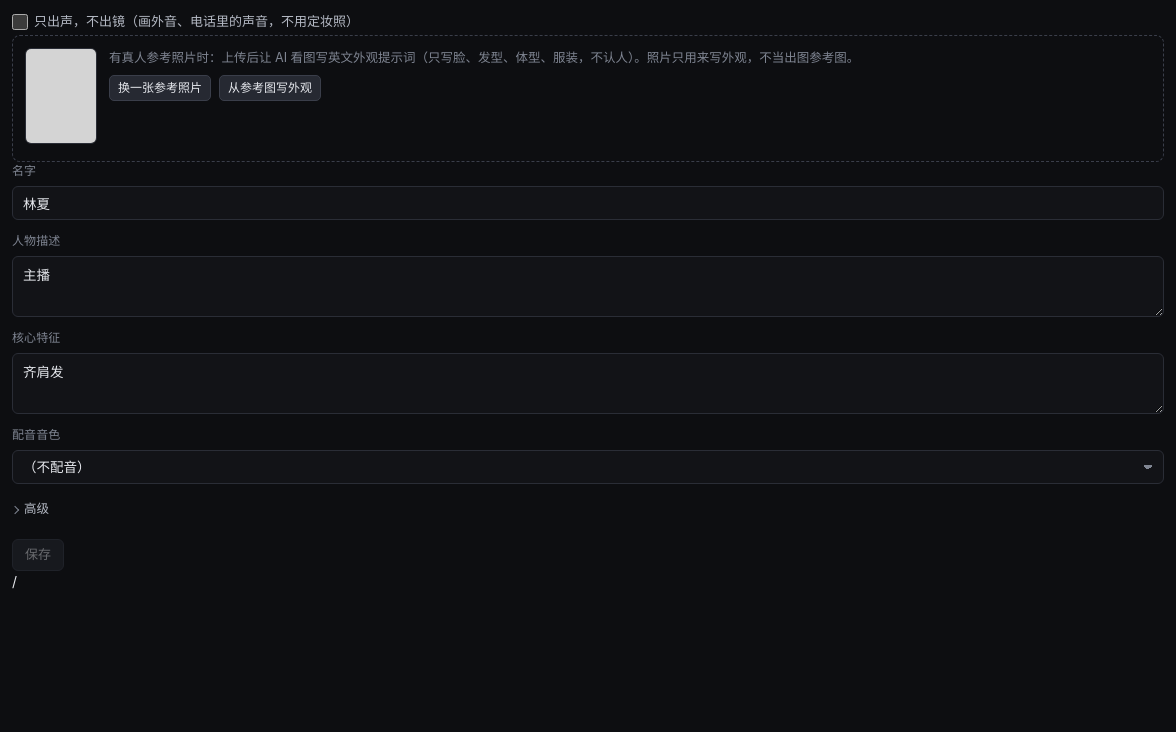
Test: 从参考图写外观 › 有照片：点「从参考图写外观」提交任务并跟踪
Click the button "从参考图写外观".
click(270, 88)  # box [219,75,321,101]
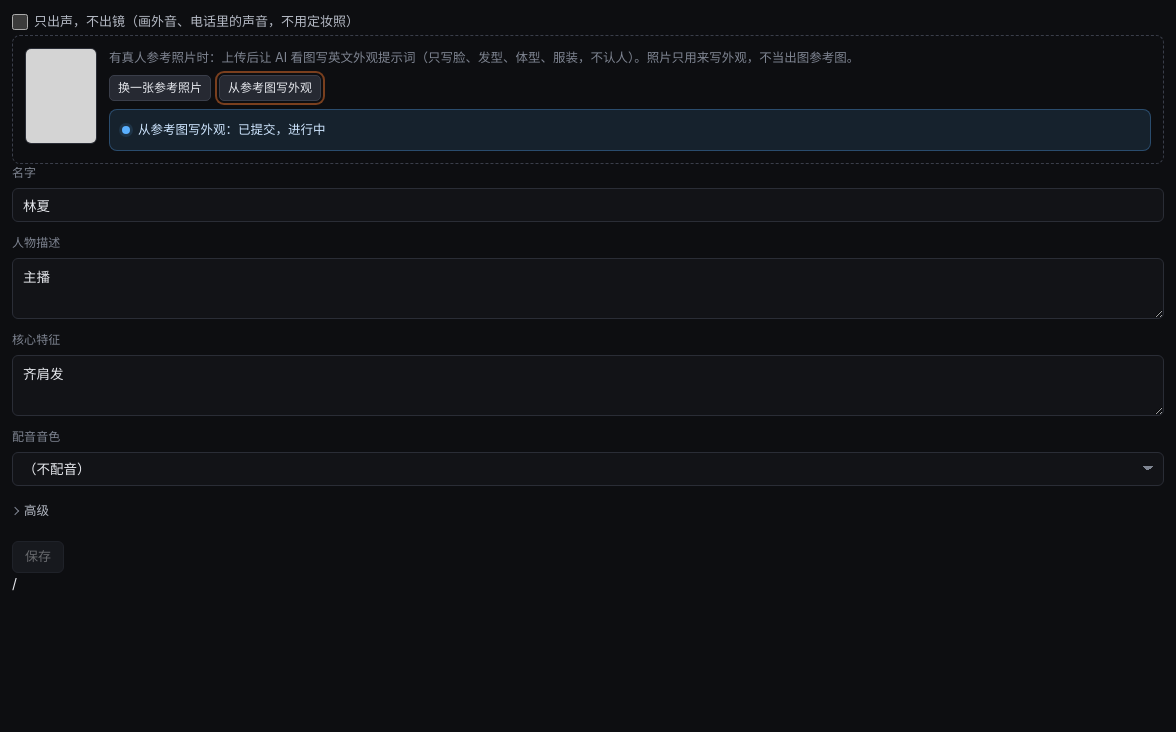
Check: the text "从参考图写外观：已提交，进行中" is shown, box [138,120,326,140]
